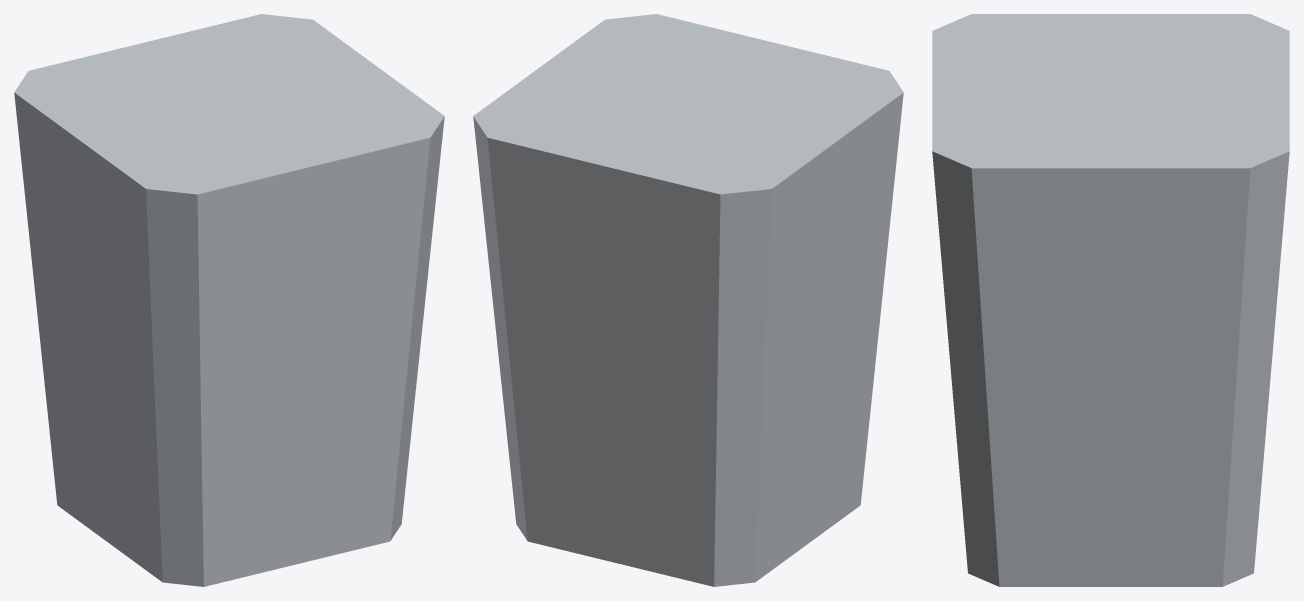
The model's file is npc_crew_lower_leg.fbx.
The picture shows the model from 3 angles, left to right: view 1: azimuth 30°, elevation 25°; view 2: azimuth 150°, elevation 25°; view 3: azimuth 270°, elevation 25°; orthographic projection. The views are drawn at different scales.
Visible parts, largest first — view 1: npc_crew_lower_leg; view 2: npc_crew_lower_leg; view 3: npc_crew_lower_leg.
Boxes of the visible parts, left/top/right/bottom form: npc_crew_lower_leg: left=14, top=14, right=444, bottom=586; npc_crew_lower_leg: left=473, top=14, right=903, bottom=586; npc_crew_lower_leg: left=932, top=14, right=1289, bottom=586.
Bounding box in the file's own units: 99 × 130 × 97.
